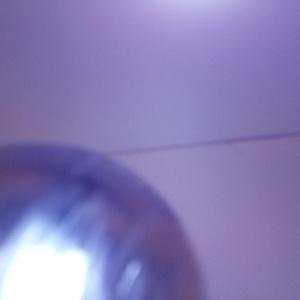alive_ball: (1, 143, 203, 300)
